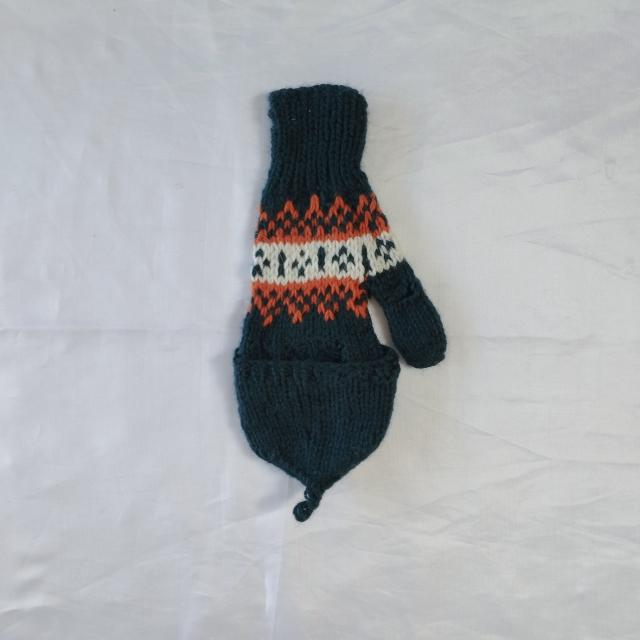Guante: (232, 82, 448, 522)
